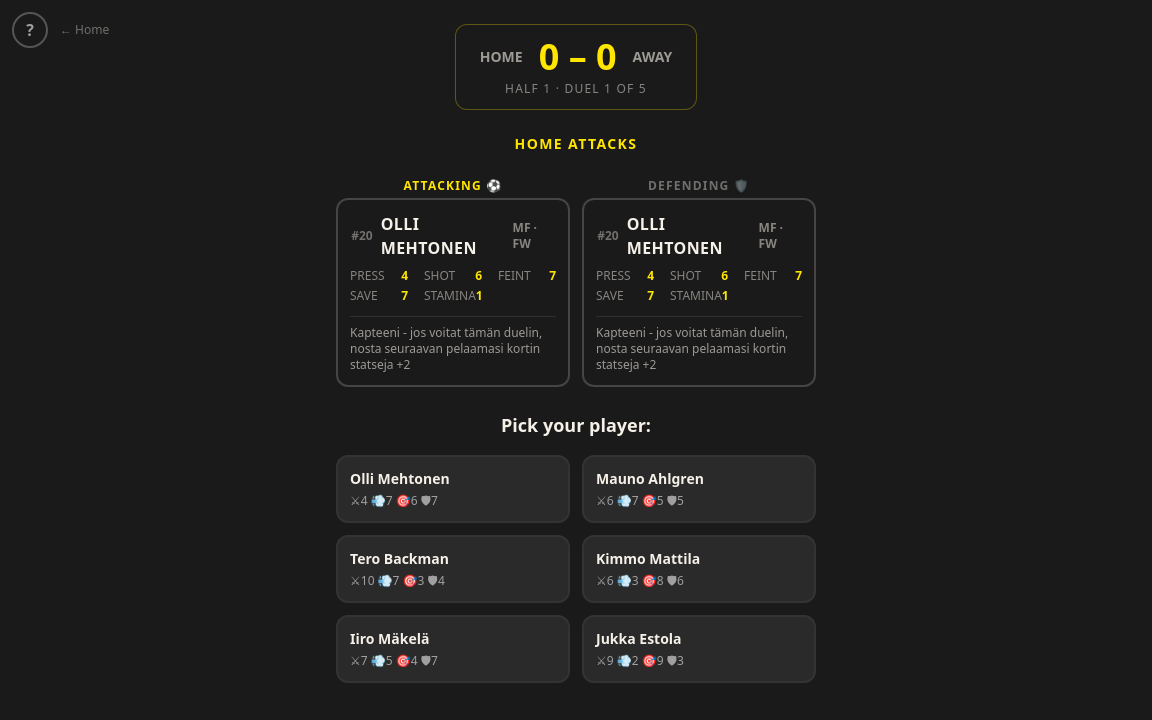
Test: DuelScreen — AI mode UI › shows attacker-pick-prompt (card pick) after char is chosen
This screenshot has width=1152, height=720.
Click the button with test id "char-btn-".
click(453, 489)  # box [336,455,570,523]
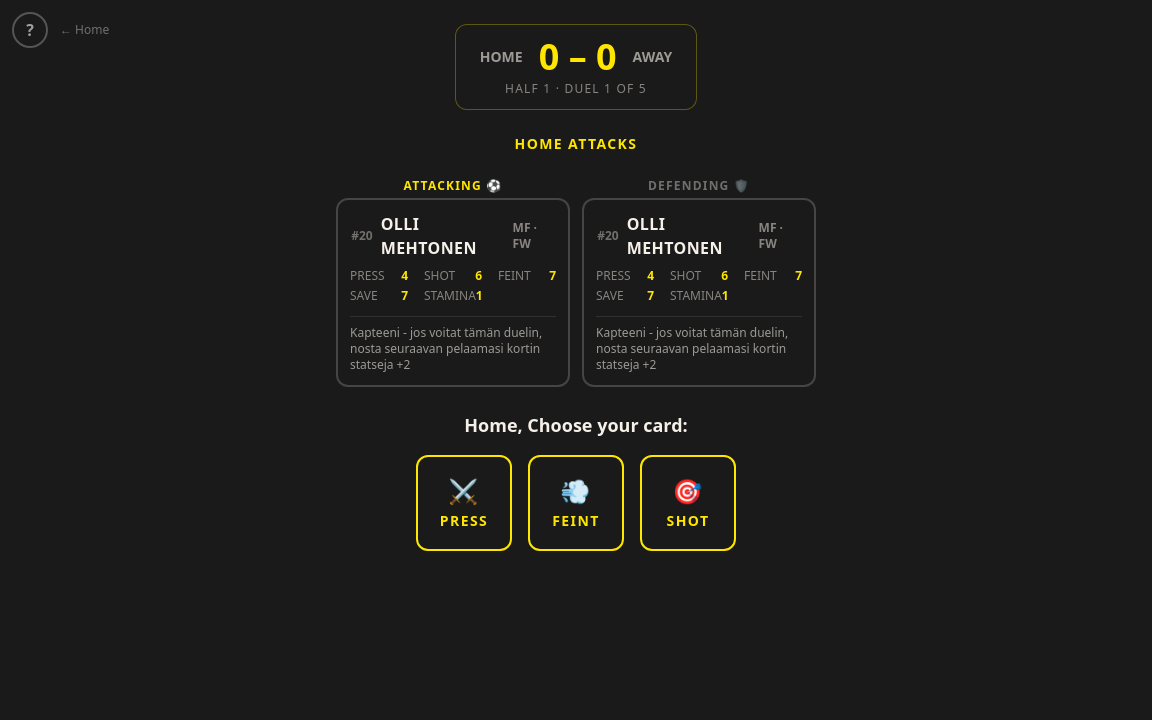
Check: the text "Home, Choose your card:" is shown, box [464,411,688,439]
